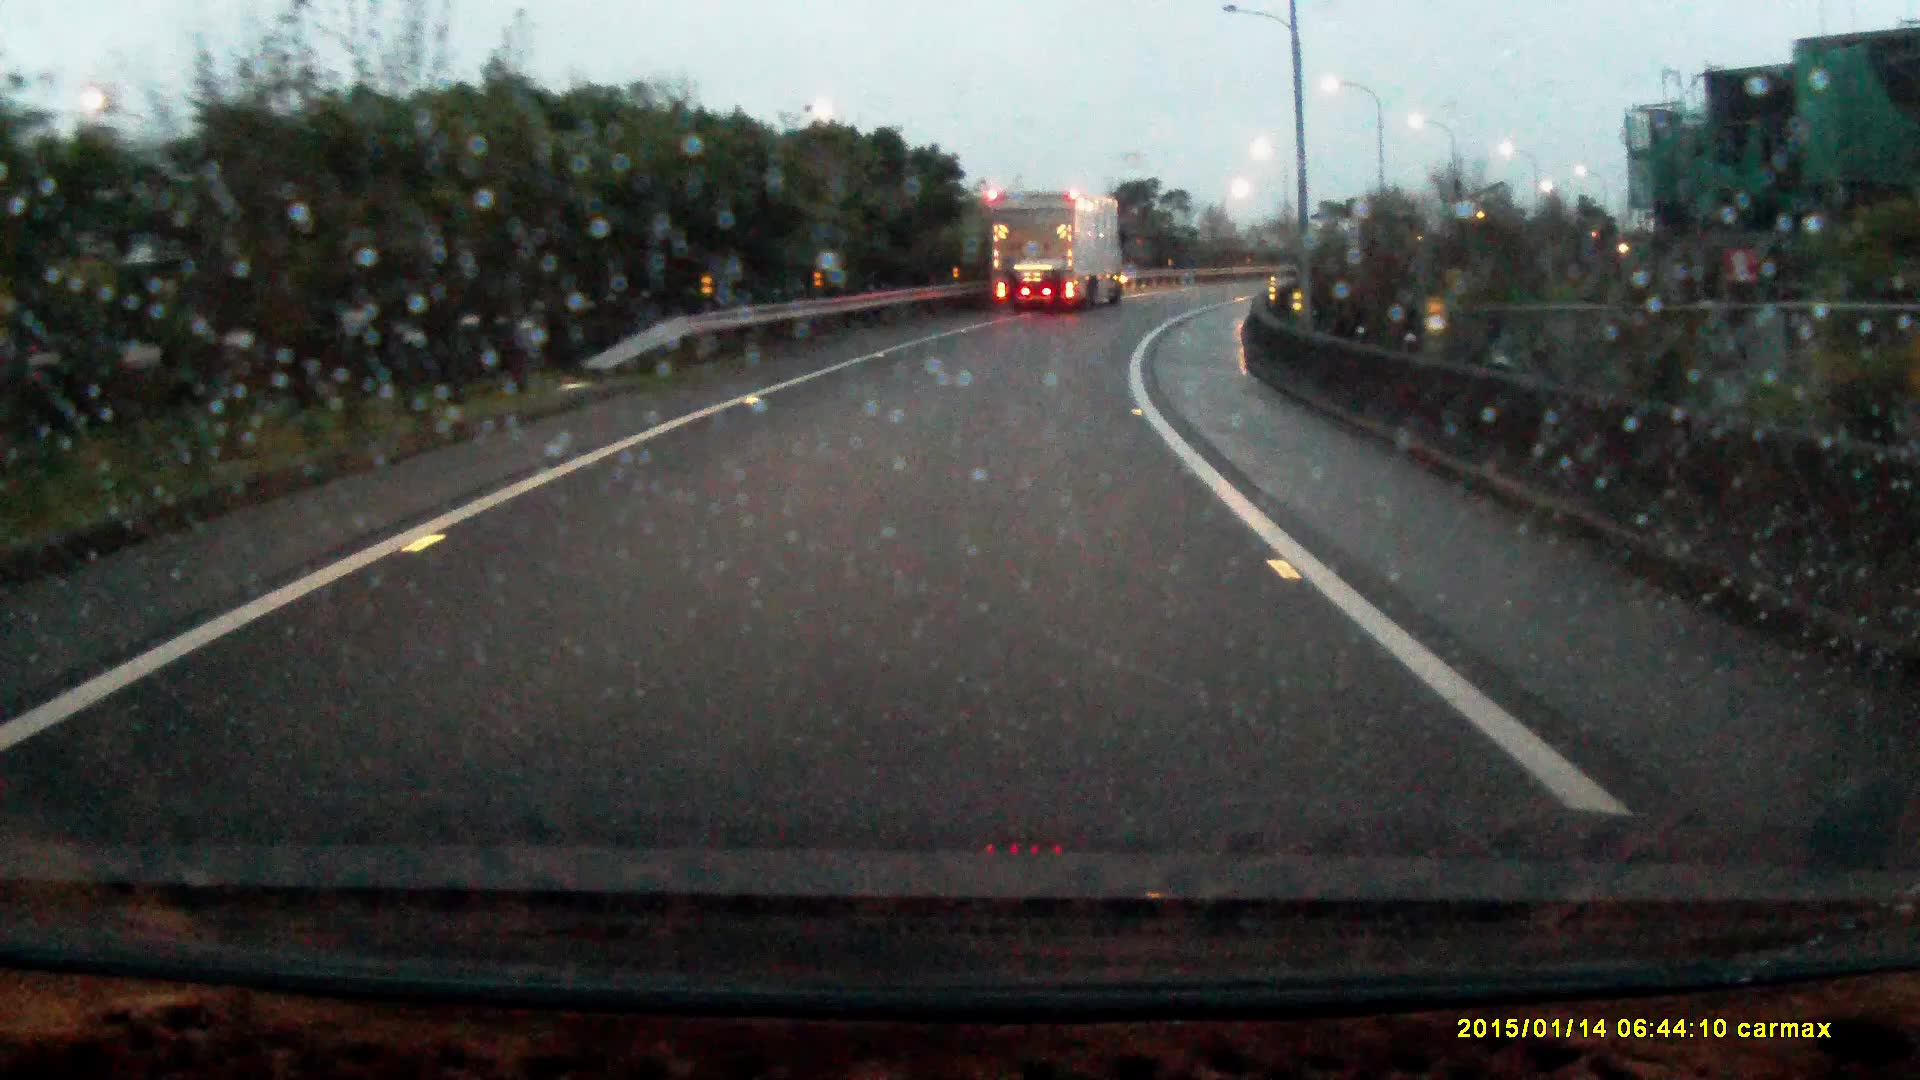vehicle: (986, 186, 1126, 310)
